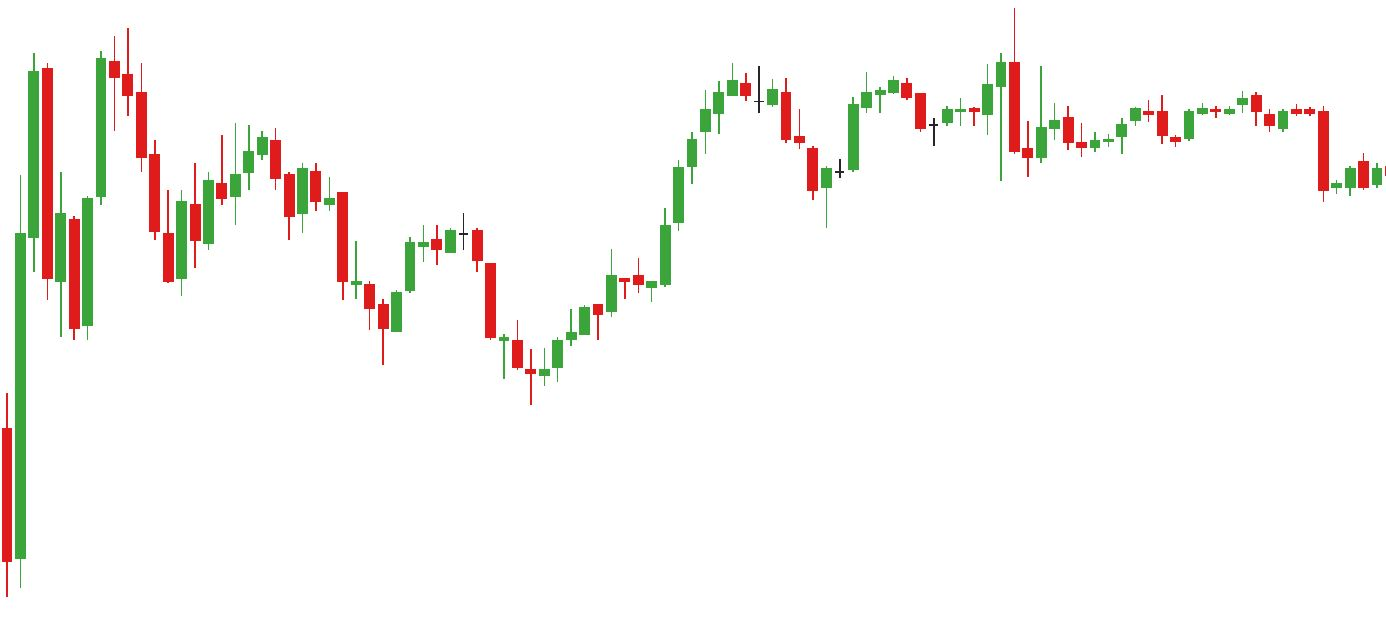buy: (376, 259, 510, 383)
sell: (24, 29, 122, 217)
